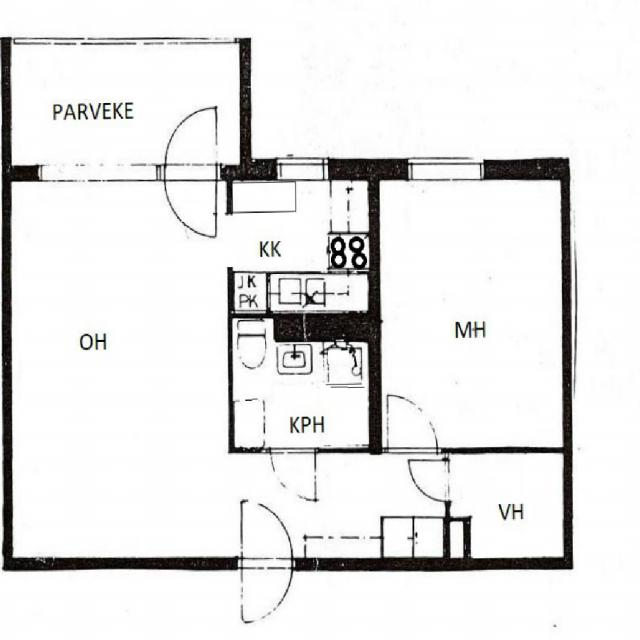door: (164, 166, 216, 240), (164, 108, 216, 181), (242, 557, 292, 625), (242, 501, 292, 568), (387, 390, 437, 452), (270, 446, 316, 504), (407, 459, 449, 502)
